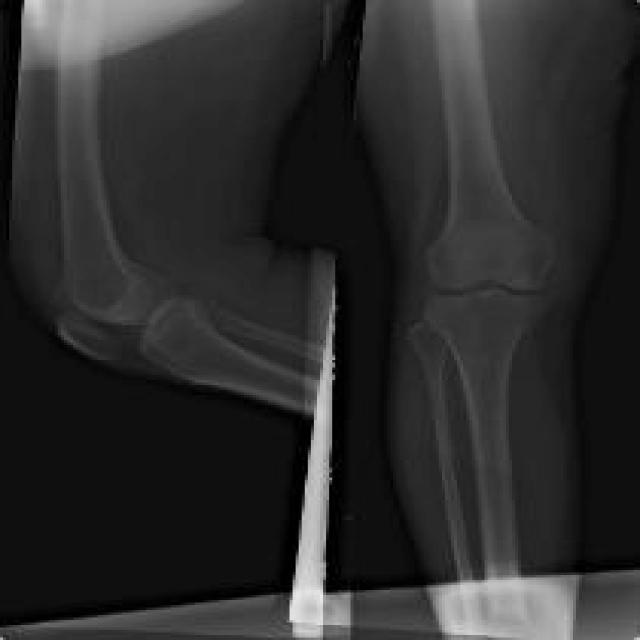normal: (425, 292, 547, 626), (422, 0, 555, 291), (59, 2, 173, 325), (413, 324, 482, 640), (143, 300, 315, 417), (187, 303, 324, 364)
